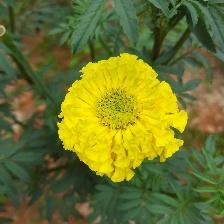marigold: (58, 53, 190, 184)
